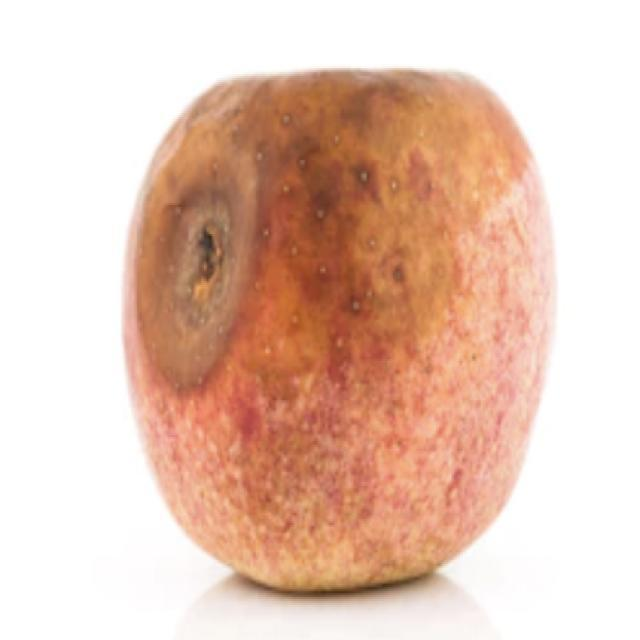Rotten: (125, 72, 565, 595)
